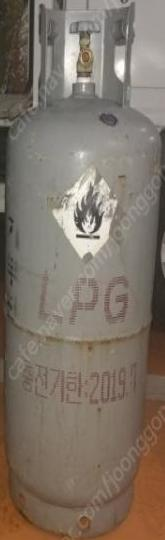cylinder: (1, 1, 165, 540)
